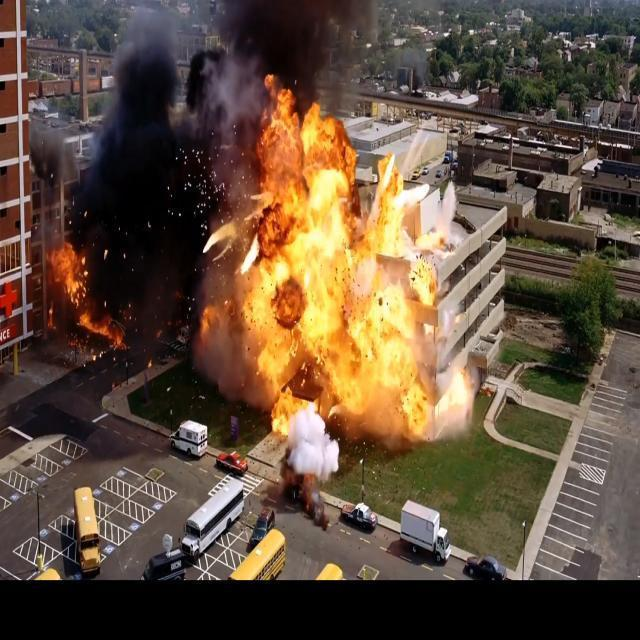fire: (188, 64, 477, 448)
